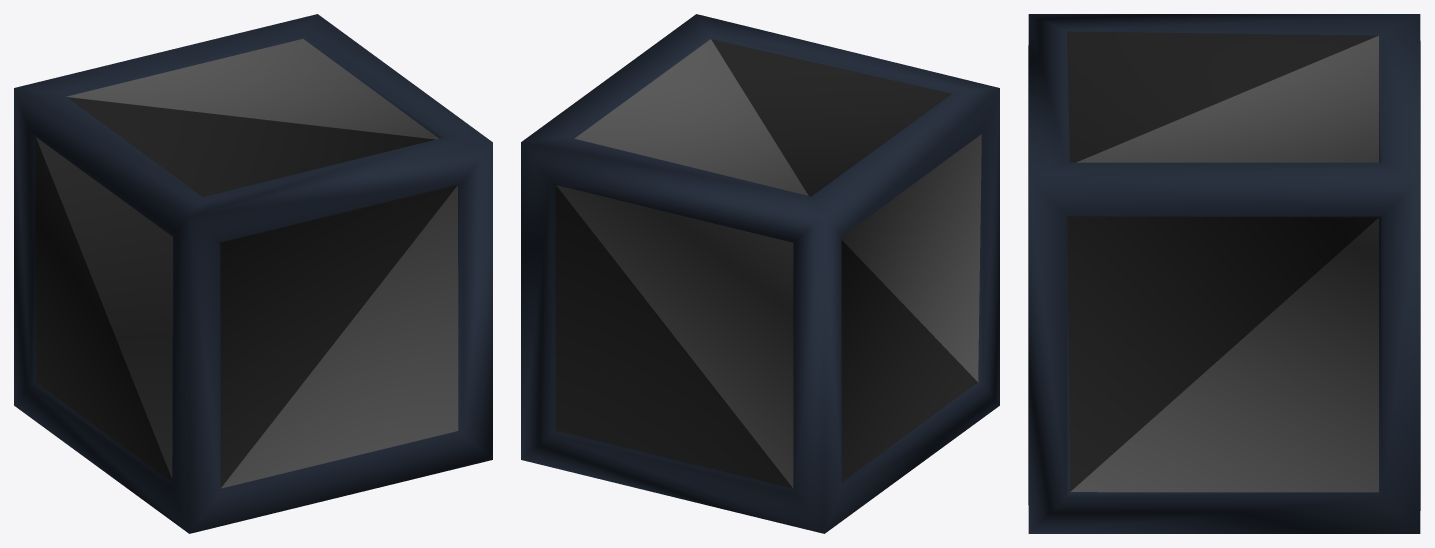
File: Caja1.obj
3 renders of one model, left to right at view 1: azimuth 30°, elevation 25°; view 2: azimuth 150°, elevation 25°; view 3: azimuth 270°, elevation 25°, orthographic. The views are drawn at different scales.
Visible parts, largest first — view 1: pCube15.005; view 2: pCube15.005; view 3: pCube15.005.
Boxes of the visible parts, box(x1,y1,x2,y2) form: pCube15.005: box(14, 14, 492, 533); pCube15.005: box(521, 14, 999, 533); pCube15.005: box(1028, 14, 1420, 533).
Bounding box in the file's own units: 1.33 × 1.33 × 1.33.
